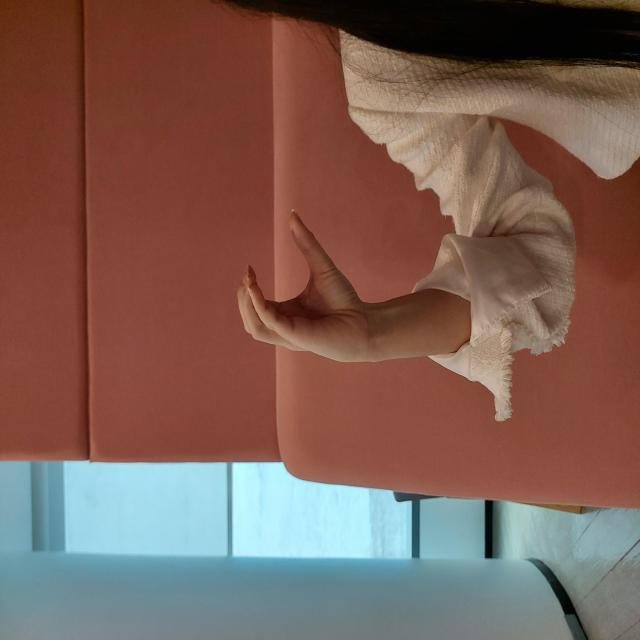C: (280, 236, 430, 362)
